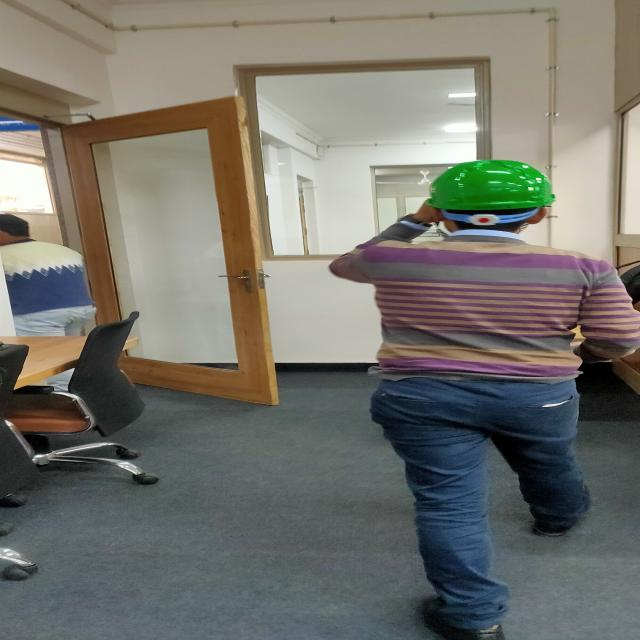no jacket: (328, 161, 640, 638)
unsafe: (0, 214, 97, 336)
